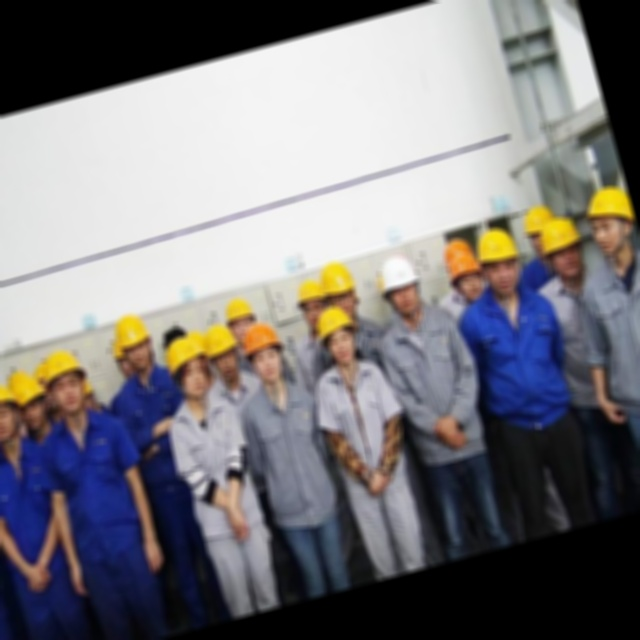Con_Casco: (41, 348, 94, 417), (314, 303, 365, 370), (241, 324, 290, 386)
Sin_Chaleco: (465, 278, 579, 440), (164, 391, 264, 532)
